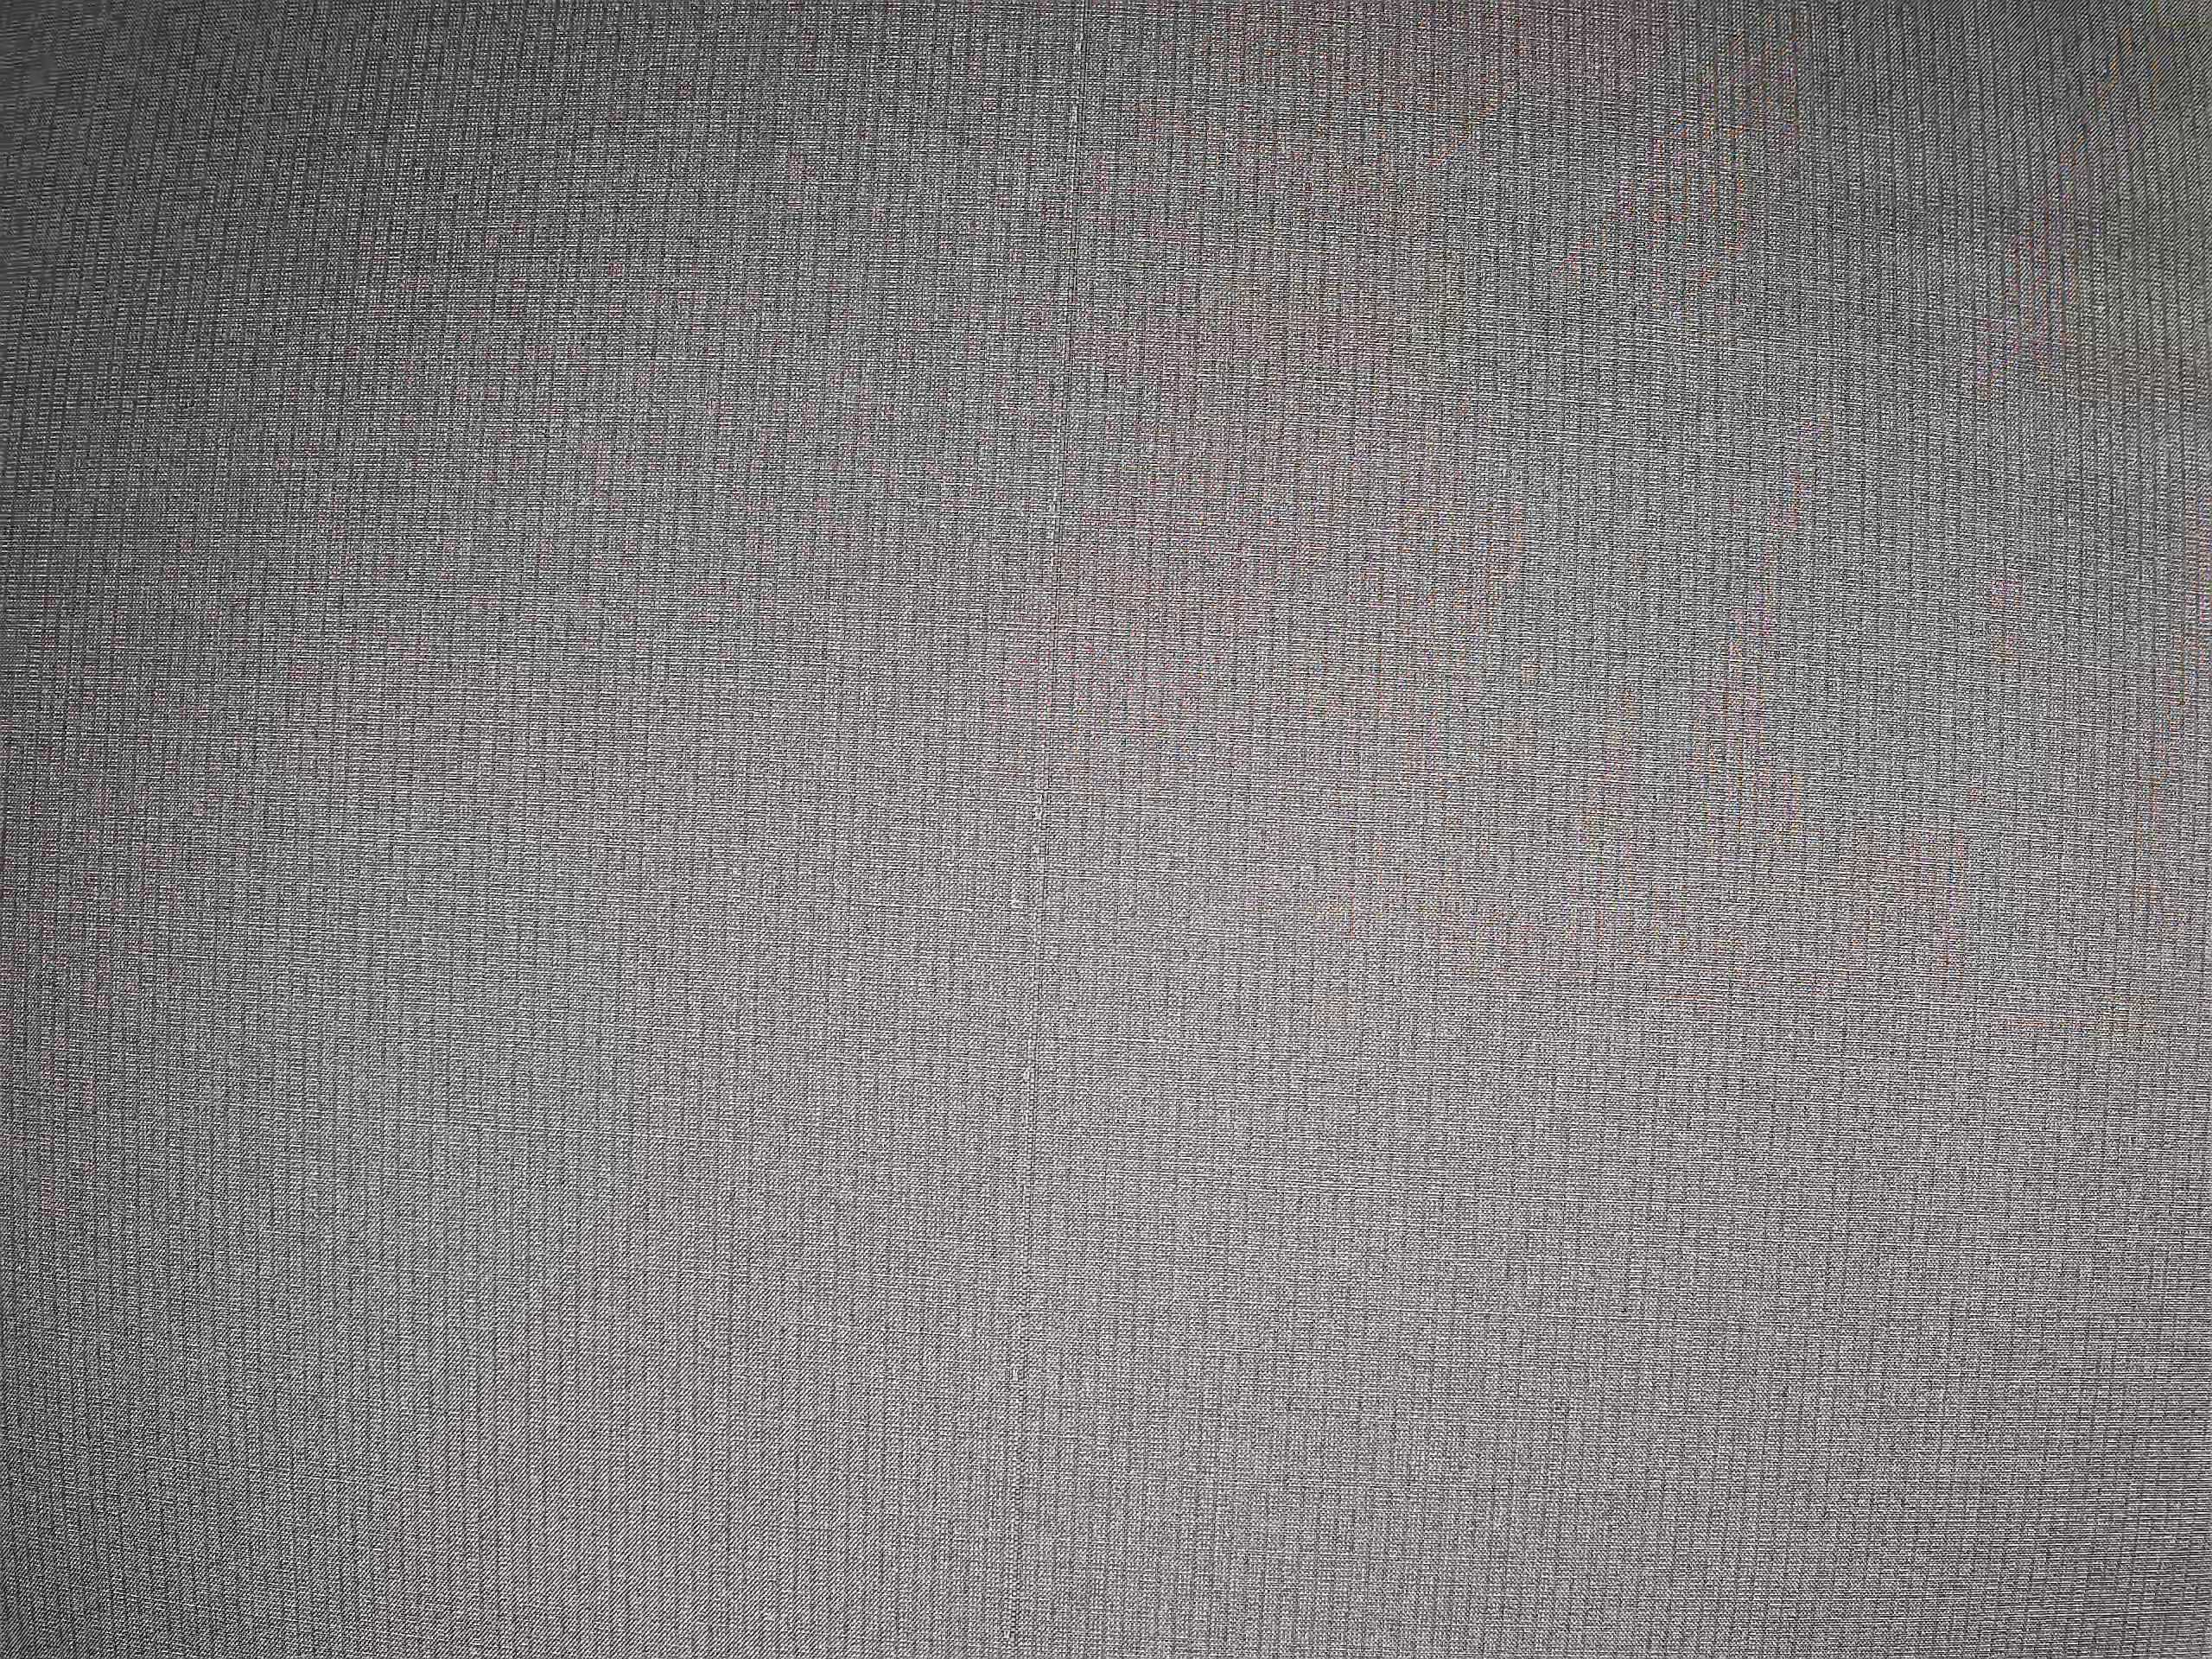lacking-warp: (982, 9, 1106, 1631)
